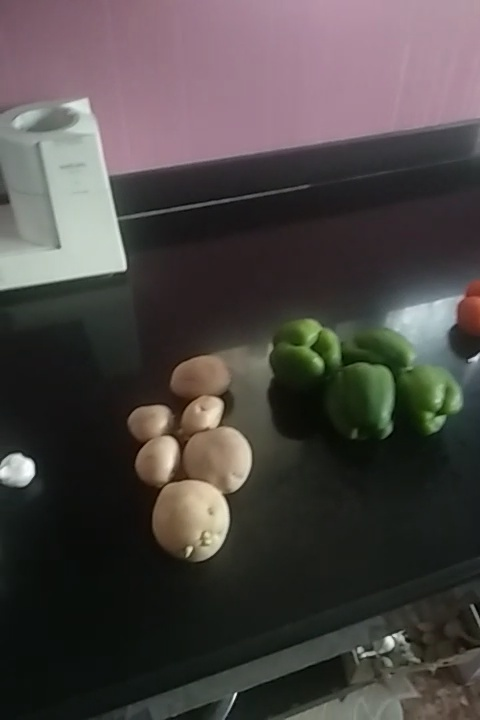capsicum: (330, 364, 408, 443), (388, 364, 462, 437), (275, 316, 329, 395), (340, 329, 424, 369)
potato: (148, 485, 238, 563), (187, 428, 256, 491), (169, 353, 232, 400), (130, 438, 185, 481), (174, 401, 233, 429), (129, 408, 180, 436)
tomato: (453, 279, 480, 342)
